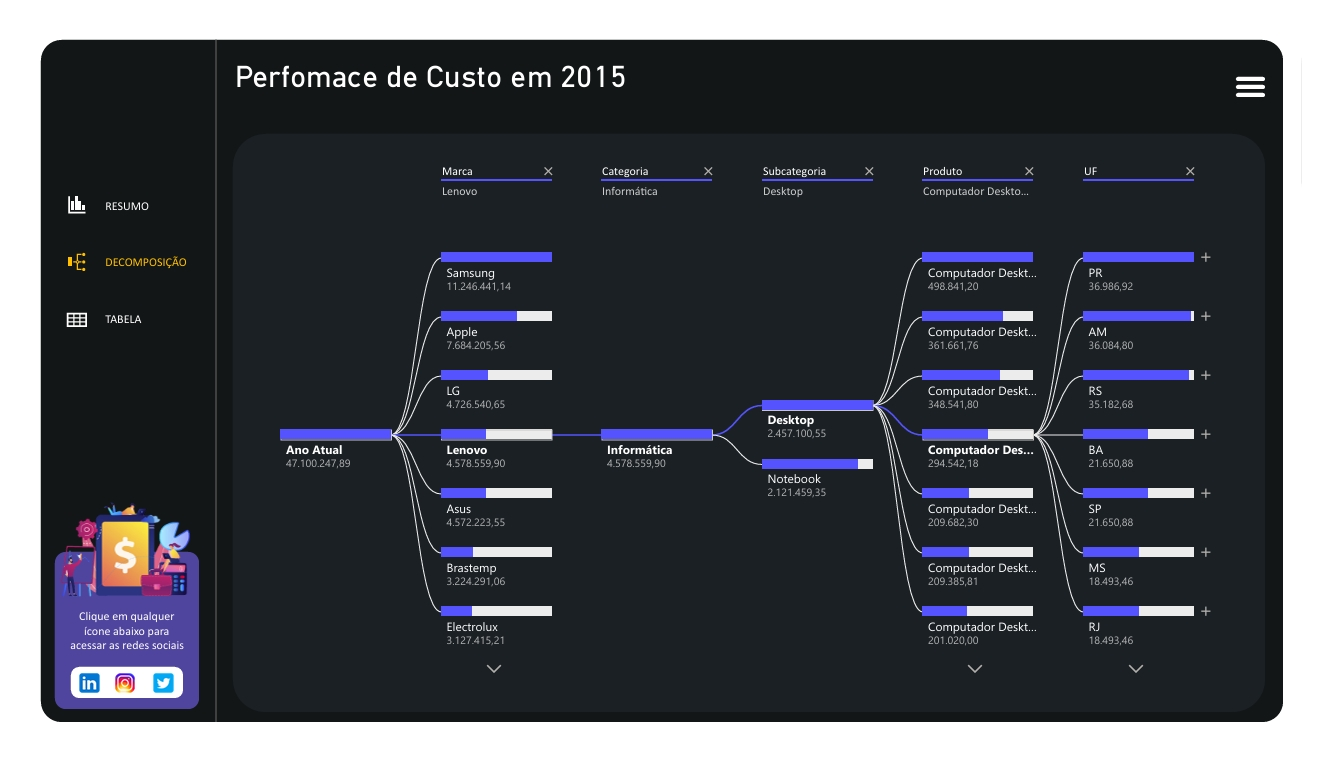

What the dashboard file says about the page in this screenshot:
{"tool":"powerbi","page":{"name":"Decomposição","canvas":[1280,720],"ordinal":1},"visuals":[{"type":"actionButton","title":"btn_menu_tabela","box":[35.4,279.2,142.3,34.6],"z":0},{"type":"actionButton","title":"btn_menu_resumo","box":[35.4,165.4,142.3,36.2],"z":1000},{"type":"decompositionTreeVisual","fields":{"Analyze":["medidas.Medida Dinamica - Valor"],"ExplainBy":["dim_marca.Marca","dim_categoria.Categoria","dim_subcategoria.Subcategoria","dim_produto.Descricao_Produto","dim_cidade.UF","dim_cidade.Cidade"]},"box":[228.7,121.7,999.4,558.9],"z":1500},{"type":"actionButton","title":"btn_filtro_abrir","box":[1209.2,47.5,39.2,36.7],"z":3000},{"type":"textbox","box":[208.1,35.8,665.9,65],"z":6000}]}

Visuals, with their boxes on the page's 1280x720 design canvas (x1, y1, x2, y2). These are canvas units, not pixel positions in the 1323x764 screenshot, which may show the page scaled, cropped or inside an application window:
"btn_menu_tabela" actionButton: bbox=(35, 279, 178, 314)
"btn_menu_resumo" actionButton: bbox=(35, 165, 178, 202)
decompositionTreeVisual - medidas.Medida Dinamica - Valor x dim_marca.Marca: bbox=(229, 122, 1228, 681)
"btn_filtro_abrir" actionButton: bbox=(1209, 48, 1248, 84)
textbox: bbox=(208, 36, 874, 101)
